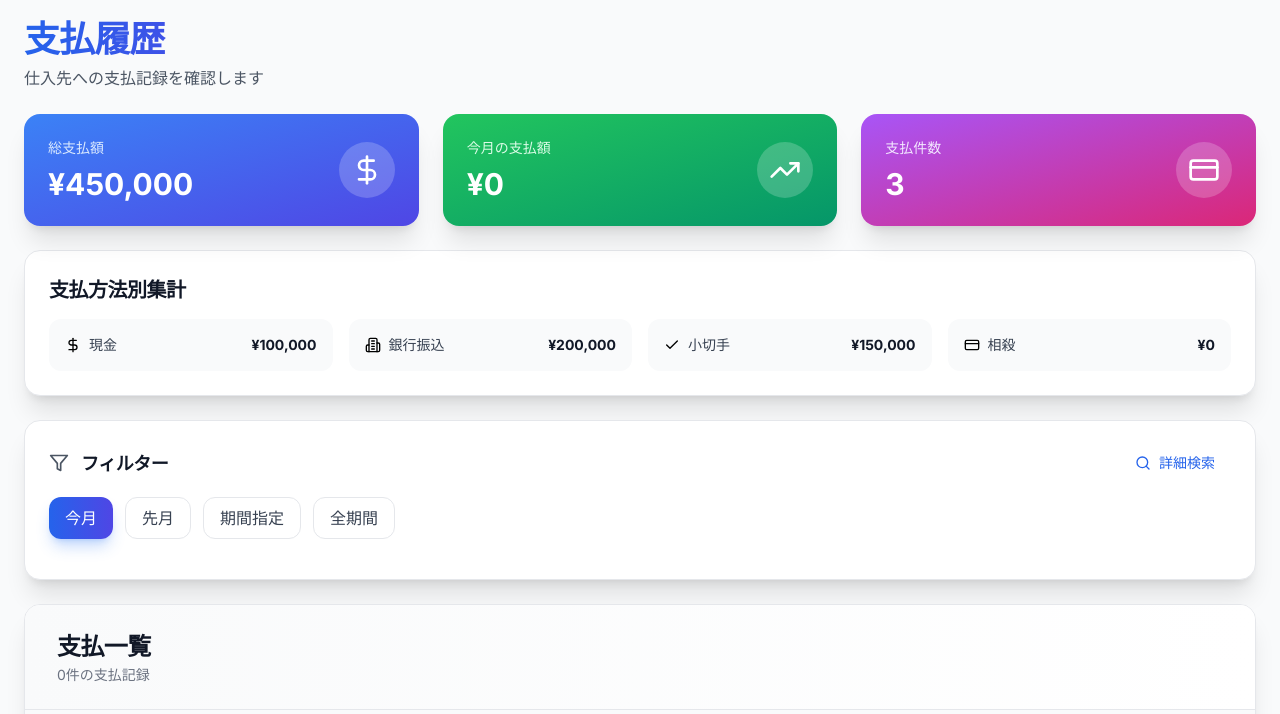
Scenario: Payments › Payment List Display › should display payment data after changing filter
Expected: the heading "支払履歴" is shown, [24, 18, 264, 58]
// Change to "all period" filter to see all data
Click the button "全期間".
click(354, 518)  # box [313, 497, 395, 539]
(page scrolled)
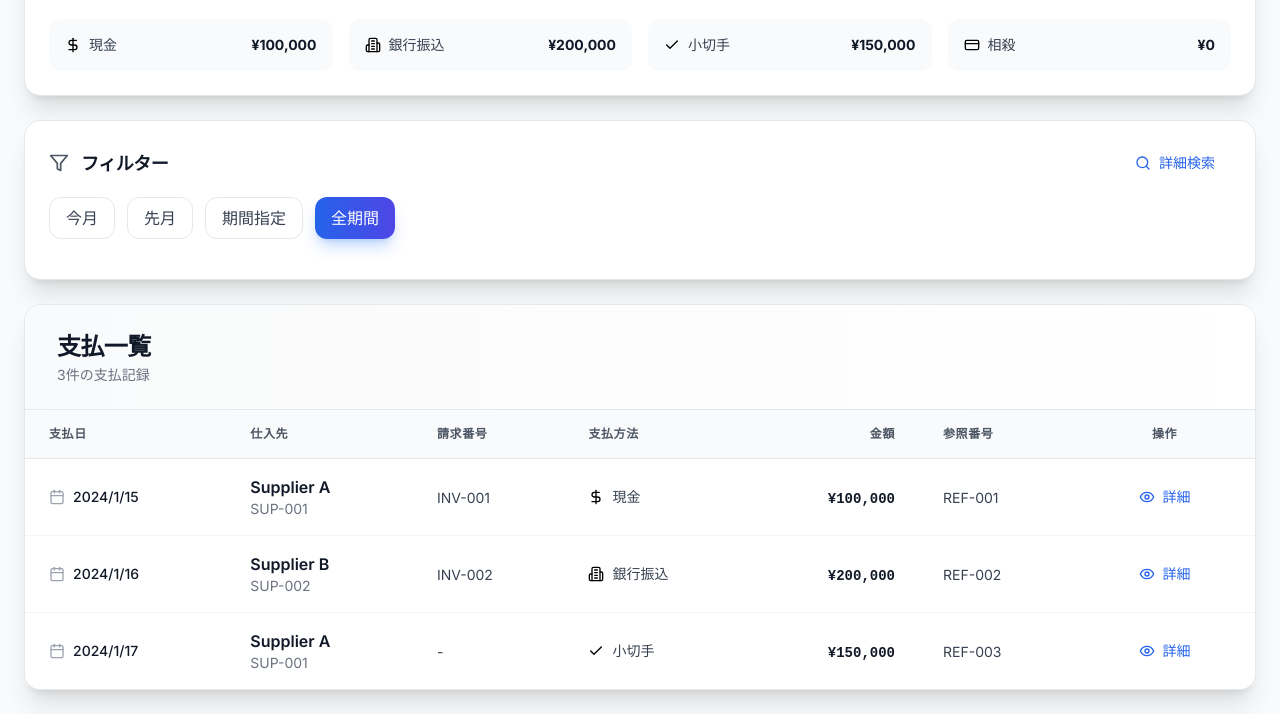
Now the text "Supplier A" next to "2024/1/15" is shown, box [250, 477, 330, 497]
Now the text "SUP-001" next to "2024/1/15" is shown, box [250, 500, 308, 517]
